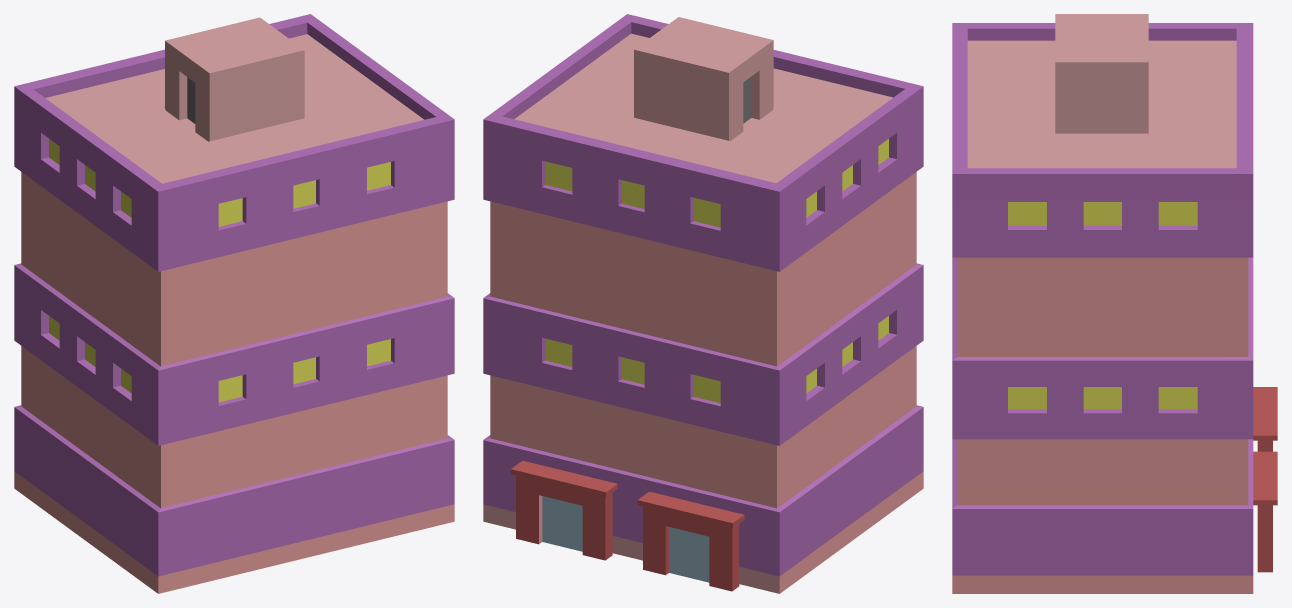
The model's file is Target_Building_2.fbx.
3 renders of one model, left to right at view 1: azimuth 30°, elevation 25°; view 2: azimuth 150°, elevation 25°; view 3: azimuth 270°, elevation 25°, orthographic. The views are drawn at different scales.
Parts seen in each view (by area): view 1: Building_2; view 2: Building_2; view 3: Building_2.
Part boxes in pixels (x1,y1,x2,y2): Building_2: [14, 14, 454, 593]; Building_2: [483, 14, 923, 593]; Building_2: [952, 14, 1277, 593].
Size of the model in its own units: 136 by 202 by 124.
